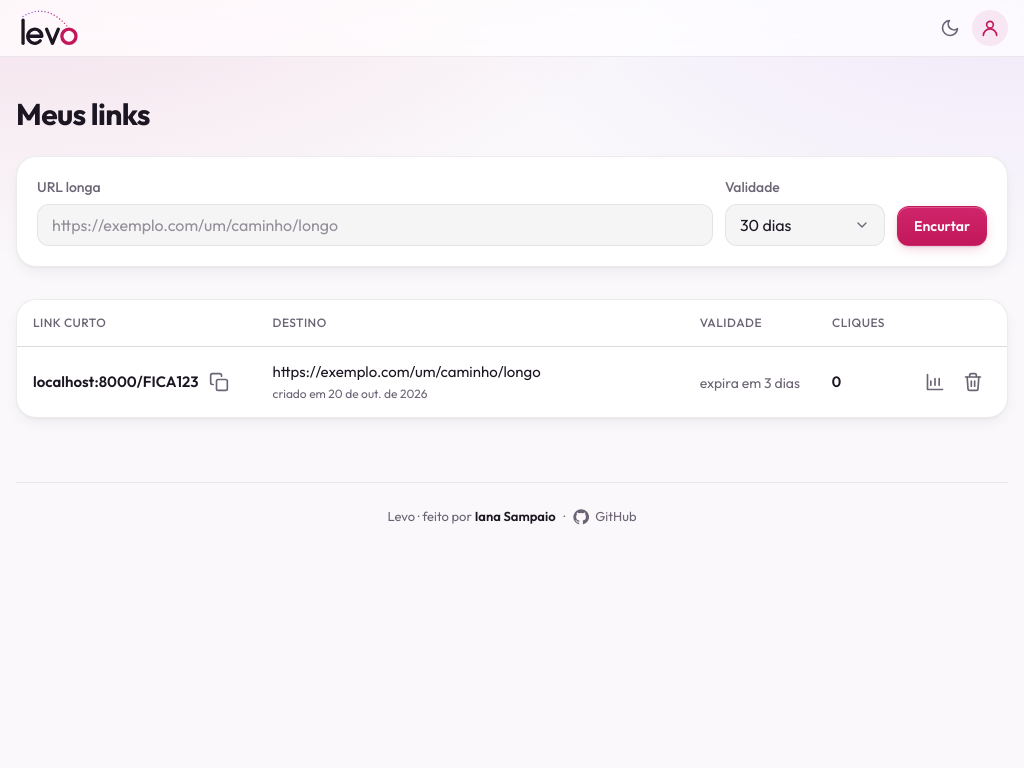
meus links › cancelar a confirmação não apaga
What coordinates should you click on to do the following:
click the button named "Excluir localhost:8000/FICA123"
I would click on:
 (973, 382)
Its box is [955,364,991,400].
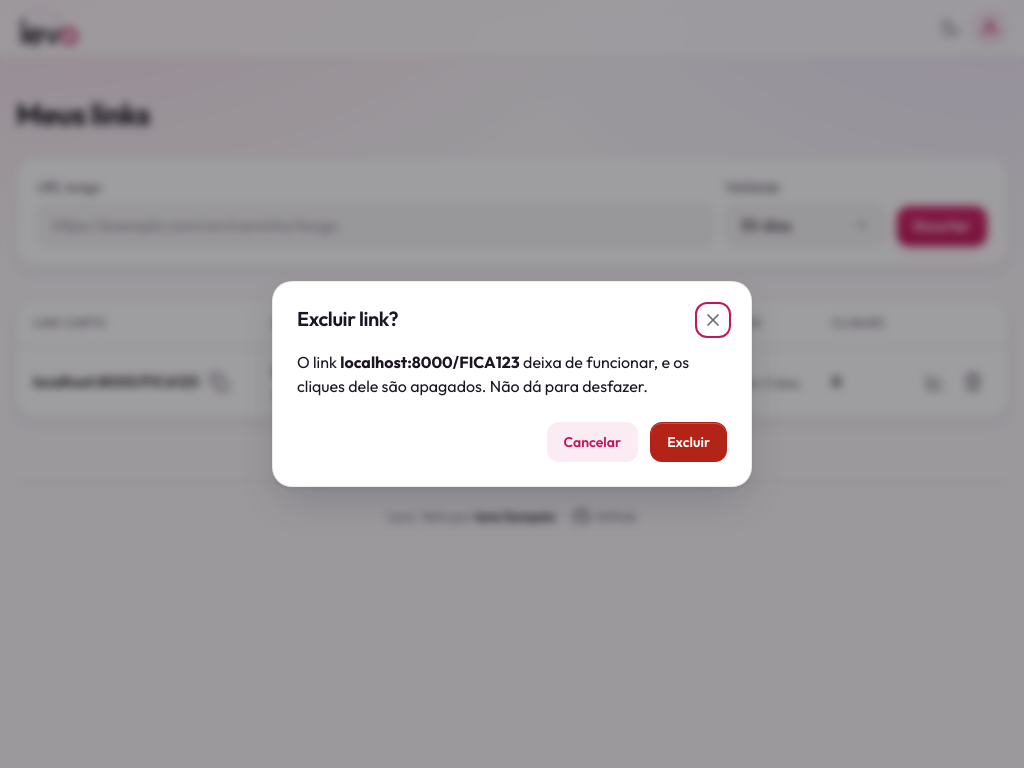
What coordinates should you click on to do the following:
click the button "Cancelar"
I would click on:
 (592, 442)
Its box is [546,422,638,462].
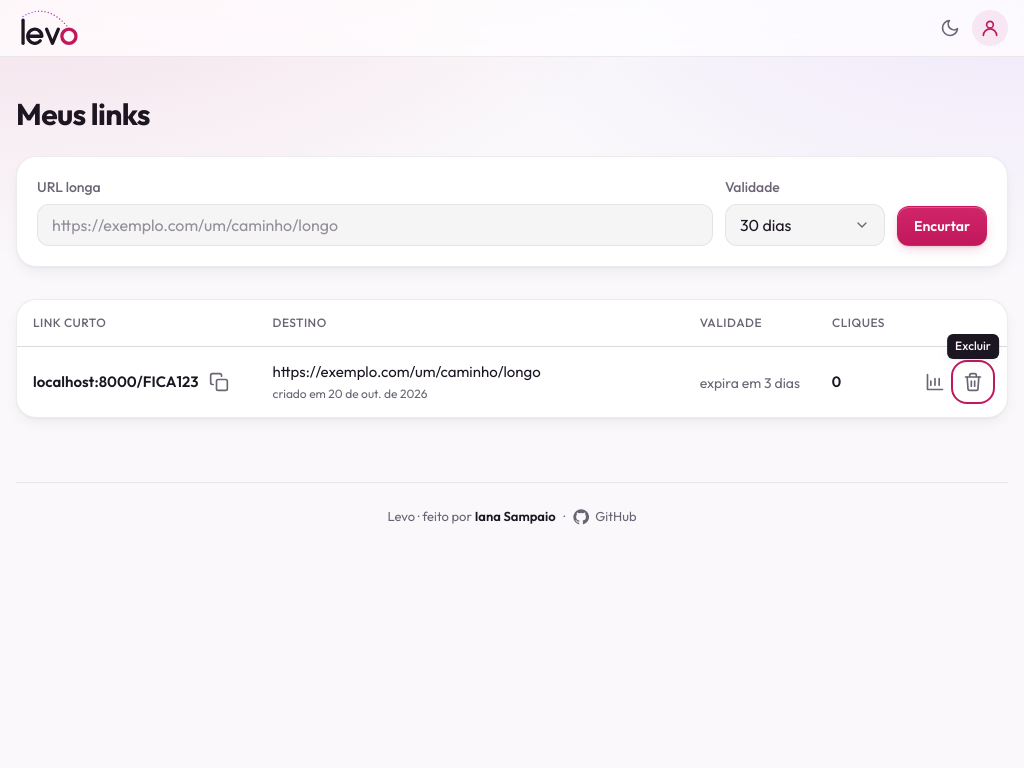
Expected: the dialog is gone
